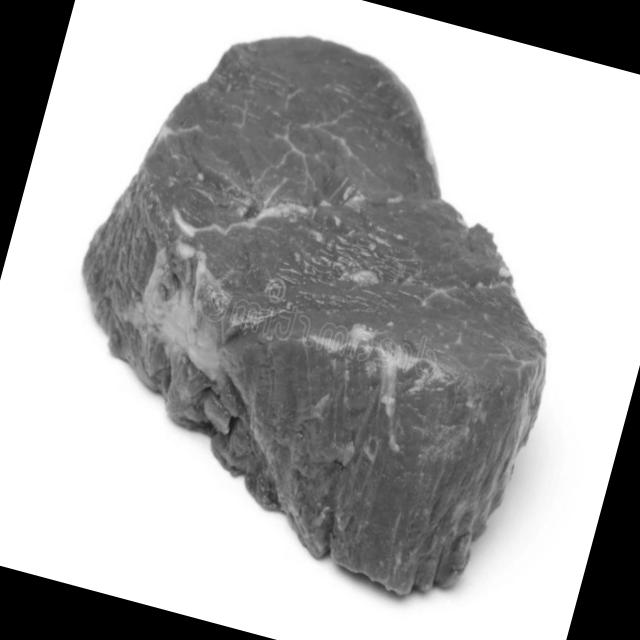beef tenderloin steak: (22, 0, 608, 614)
